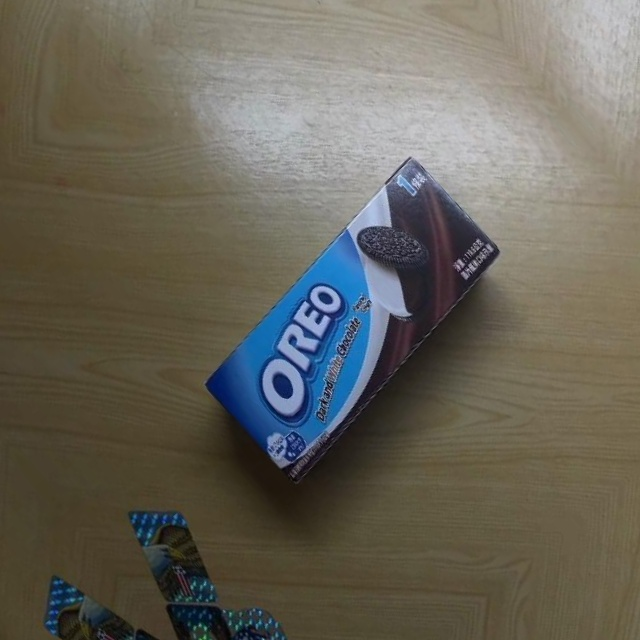Oreo: (176, 152, 540, 501)
